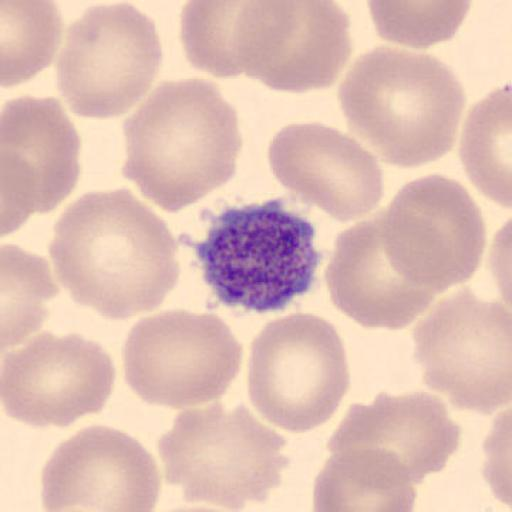Platelet: (194, 195, 325, 316)
RBC: (48, 187, 181, 321), (122, 77, 242, 215), (338, 44, 466, 170), (157, 400, 290, 510), (322, 212, 436, 332), (324, 389, 462, 487), (54, 0, 165, 121), (410, 288, 512, 416), (246, 310, 350, 434), (382, 172, 488, 292), (121, 308, 245, 410), (266, 120, 385, 224), (231, 0, 354, 95), (2, 330, 116, 430), (38, 421, 162, 512), (3, 93, 82, 216), (178, 0, 293, 79), (310, 444, 418, 512), (458, 82, 512, 210), (2, 241, 59, 351), (1, 0, 64, 89), (365, 0, 473, 49), (480, 403, 512, 511), (2, 148, 38, 238), (488, 213, 512, 330), (486, 218, 512, 301)
